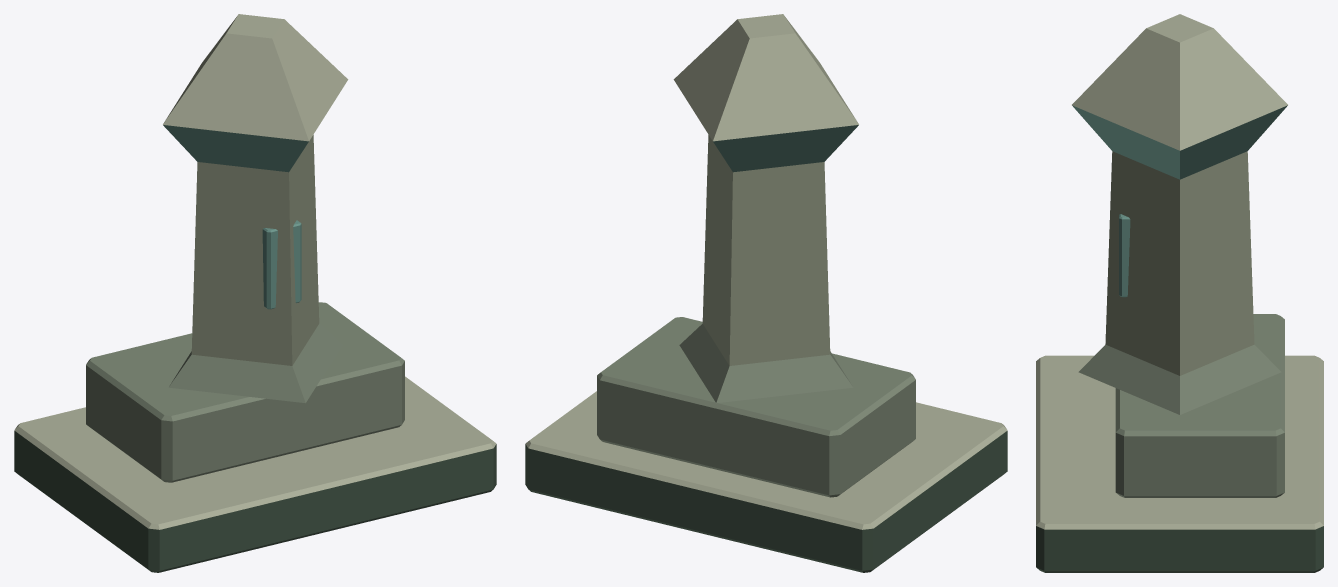
Rendered from shrine.glb.
The picture shows the model from 3 angles, left to right: view 1: azimuth 30°, elevation 25°; view 2: azimuth 150°, elevation 25°; view 3: azimuth 270°, elevation 25°; orthographic projection.
Visible parts, largest first — view 1: shrine__body; view 2: shrine__body; view 3: shrine__body.
Boxes of the visible parts, <box> form: shrine__body: <box>14,14,496,572</box>; shrine__body: <box>525,14,1007,572</box>; shrine__body: <box>1036,14,1323,572</box>.
Size of the model in its own units: 1.2 by 1.5 by 0.85.
